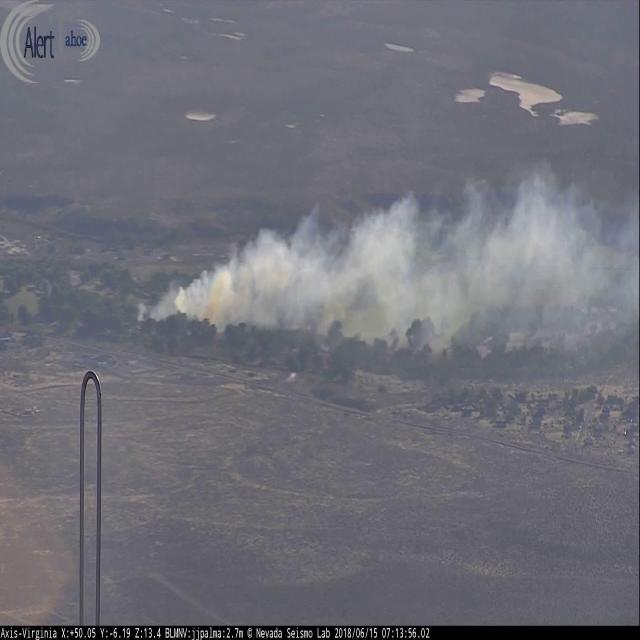smoke: (131, 148, 640, 347)
